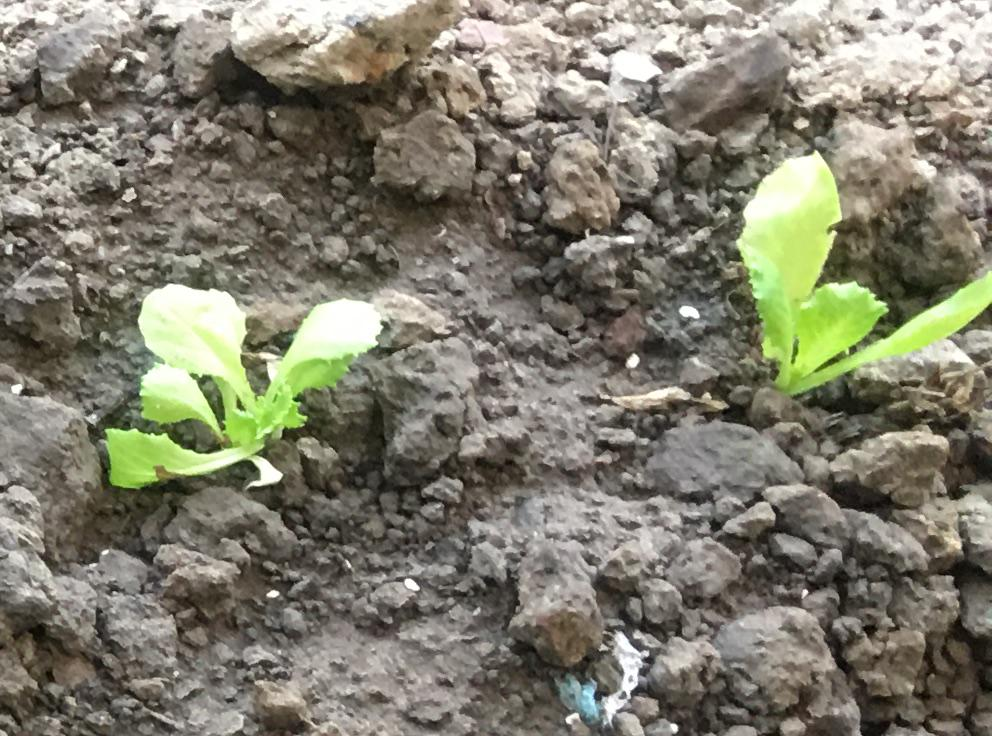block: (233, 1, 473, 95), (360, 329, 481, 492), (511, 534, 609, 669)
